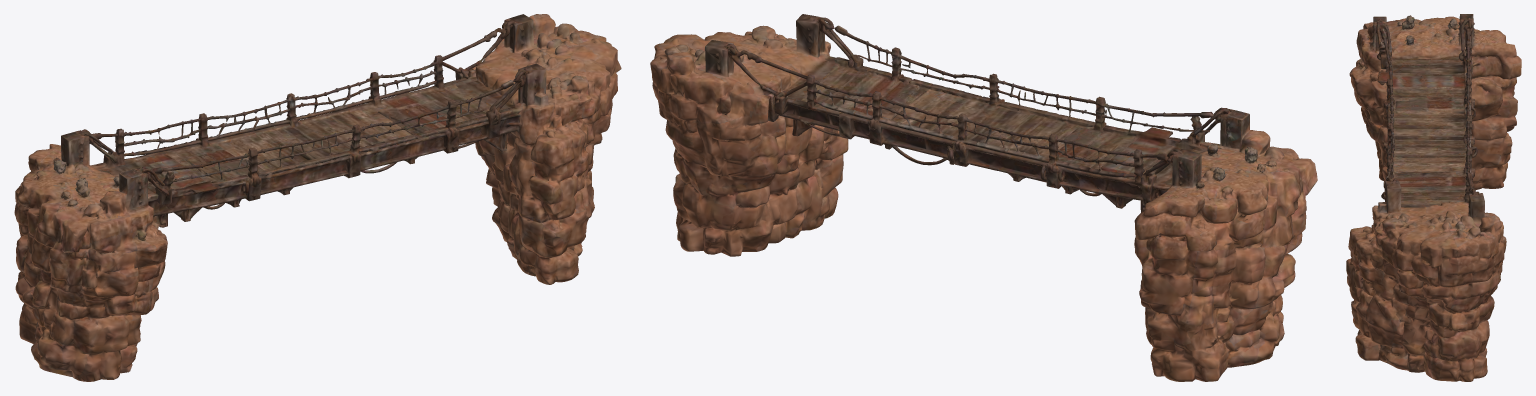
File: wasteland-scrap-bridge.glb
3 renders of one model, left to right at view 1: azimuth 30°, elevation 25°; view 2: azimuth 150°, elevation 25°; view 3: azimuth 270°, elevation 25°, orthographic. The views are drawn at different scales.
Bounding box in the file's own units: 1.89 × 0.618 × 0.5825.
1 material, 1 textured.
